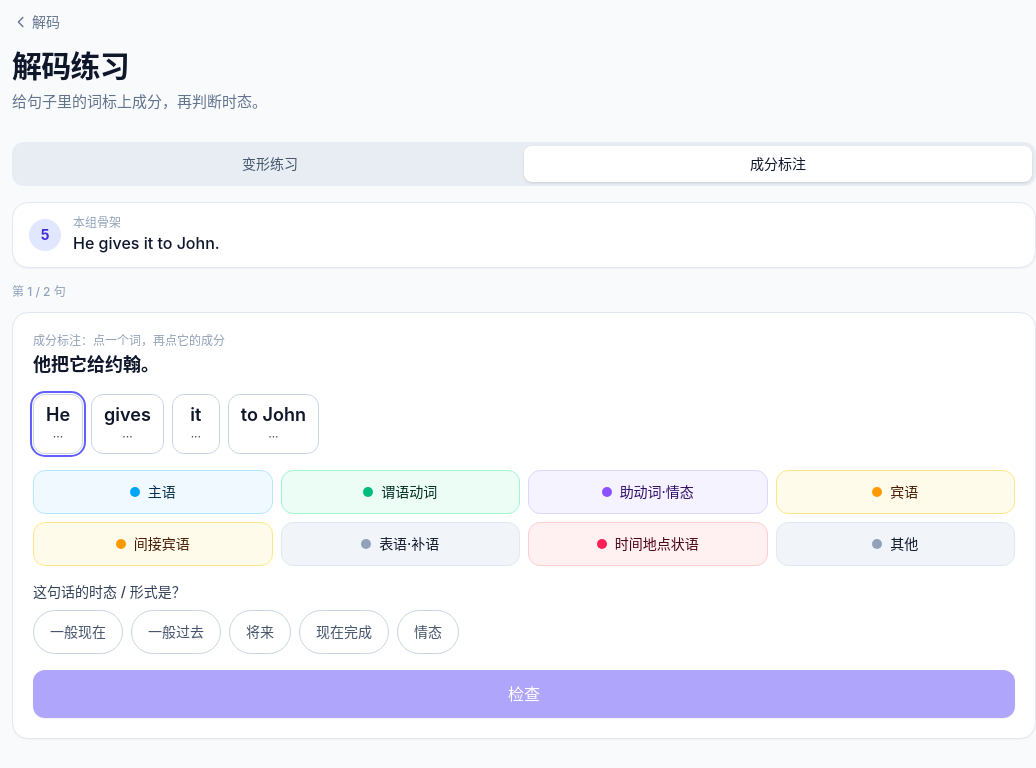
DecodePracticePage › label mode shows the label drill for the skeleton and can switch modes
Expected: the text with test id "label-zh" reads "他把它给约翰。", [33,354,159,375]
Click the button "变形练习" at (270, 164), box [16,146,524,182]
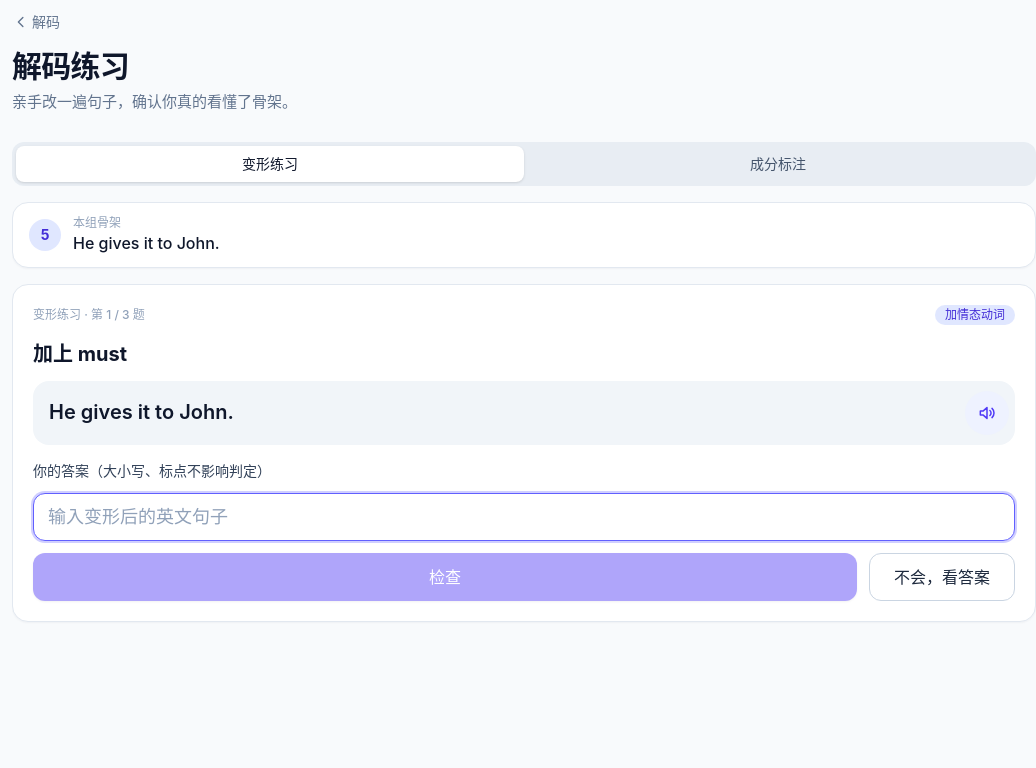
Expected: the text "变形练习 · 第 1 / 3 题" is shown, [33,307,145,323]
